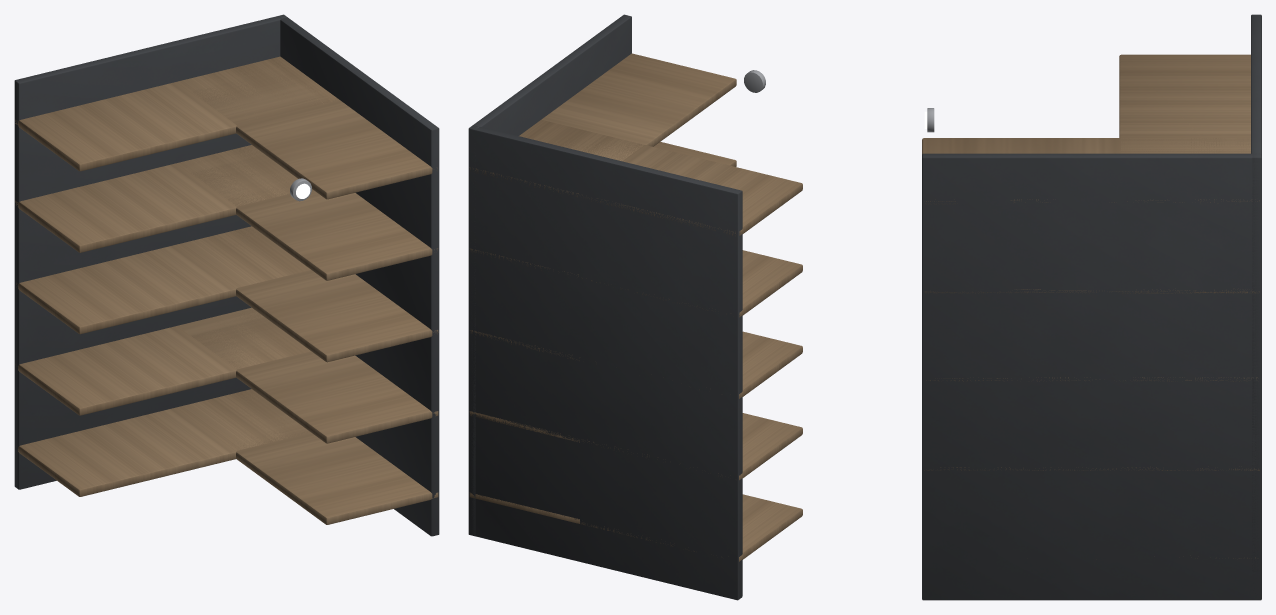
Rendered from pf_display_corner_shelving_t2.glb.
3 views of the same model, side by side, from view 1: azimuth 30°, elevation 25°; view 2: azimuth 150°, elevation 25°; view 3: azimuth 270°, elevation 25° (orthographic). The views are drawn at different scales.
Parts seen in each view (by area): view 1: Corner_Back_X, Corner_Back_Y, Corner_Shelf_X_03, Corner_Shelf_X_01, Corner_Shelf_Y_05, Corner_Shelf_X_04, Corner_Shelf_X_05, Corner_Shelf_X_02, Corner_Shelf_Y_04, Corner_Shelf_Y_02, Corner_Shelf_Y_01, Corner_Shelf_Y_03; view 2: Corner_Back_X, Corner_Shelf_Y_05, Corner_Shelf_X_05, Corner_Back_Y, Corner_Shelf_X_01, Corner_Shelf_X_02, Corner_Shelf_X_03, Corner_Shelf_X_04, Corner_Shelf_Y_04, Corner_Shelf_Y_01; view 3: Corner_Back_Y, Corner_Shelf_X_05, Corner_Back_X, Corner_Shelf_Y_05.
Boxes of the visible parts, x1,y1,x2,y2 form: Corner_Back_X: (14,14,287,489); Corner_Back_Y: (278,15,439,536); Corner_Shelf_X_03: (16,226,310,334); Corner_Shelf_X_01: (18,389,309,496); Corner_Shelf_Y_05: (190,57,437,199); Corner_Shelf_X_04: (15,145,297,252); Corner_Shelf_X_05: (15,56,339,171); Corner_Shelf_X_02: (15,309,310,415); Corner_Shelf_Y_04: (179,145,437,280); Corner_Shelf_Y_02: (177,307,438,443); Corner_Shelf_Y_01: (225,390,438,524); Corner_Shelf_Y_03: (179,226,438,362); Corner_Back_X: (468,125,742,600); Corner_Shelf_Y_05: (473,53,736,193); Corner_Shelf_X_05: (469,119,802,236); Corner_Back_Y: (469,14,631,535); Corner_Shelf_X_01: (469,493,802,561); Corner_Shelf_X_02: (470,411,802,480); Corner_Shelf_X_03: (471,330,802,398); Corner_Shelf_X_04: (470,249,802,317); Corner_Shelf_Y_04: (471,142,736,274); Corner_Shelf_Y_01: (469,492,579,523); Corner_Back_Y: (922,153,1261,600); Corner_Shelf_X_05: (1119,54,1250,202); Corner_Back_X: (1251,14,1261,598); Corner_Shelf_Y_05: (922,138,1250,204).
Size of the model in its own units: 1.25 by 1.8 by 1.25.
Materials: 5 (2 with a texture image).
